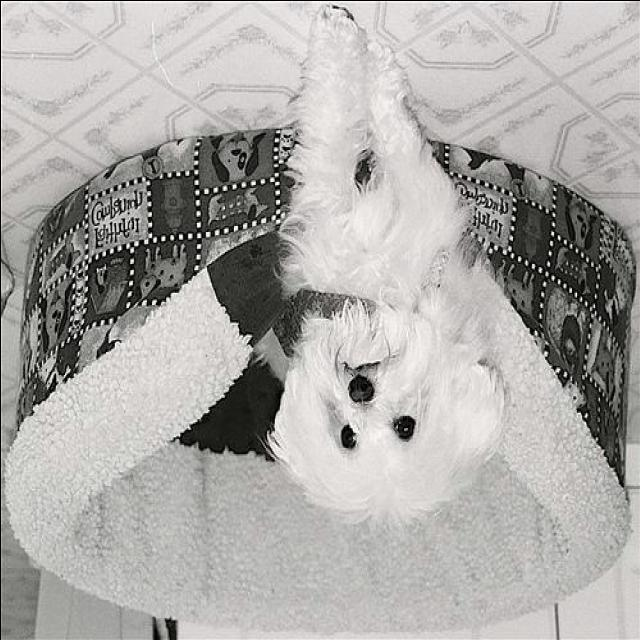maltese_dog: (270, 9, 502, 523)
